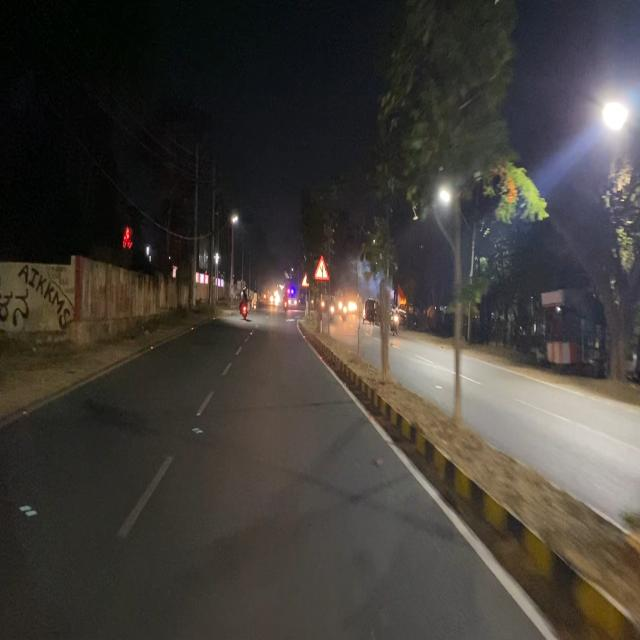bien_cam: (313, 251, 330, 283)
